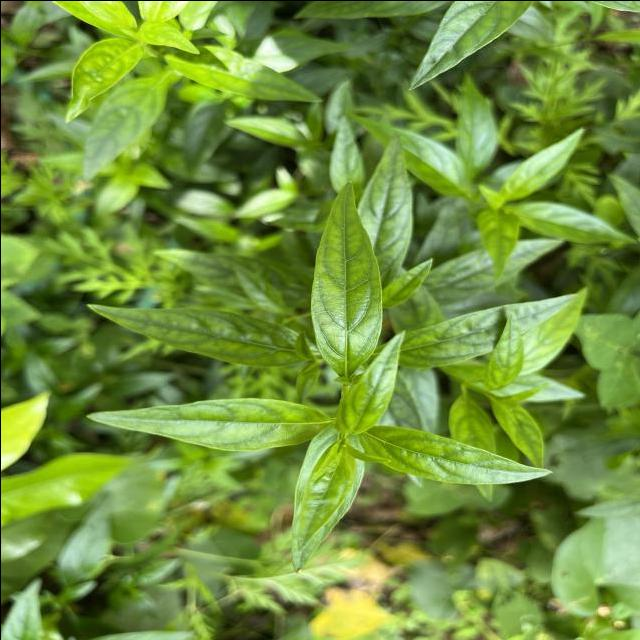Andrographis paniculata: (84, 299, 304, 370), (308, 178, 384, 377), (397, 290, 580, 370), (82, 396, 328, 452), (362, 423, 554, 486), (162, 42, 324, 104), (353, 127, 415, 288), (334, 327, 406, 437), (293, 446, 355, 551)
